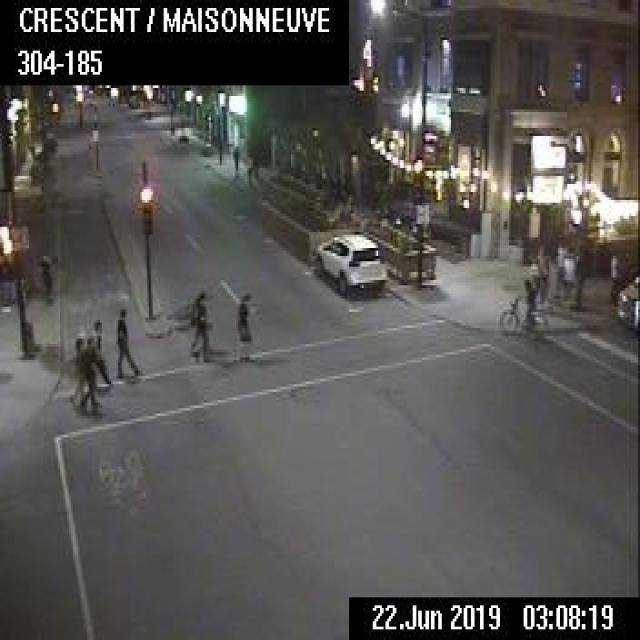cyclist: (496, 275, 553, 341)
pedestrian: (188, 288, 212, 363), (114, 307, 138, 377), (78, 334, 100, 408), (90, 317, 112, 385), (69, 334, 89, 408), (234, 288, 251, 360), (551, 236, 566, 298), (534, 243, 549, 301), (562, 245, 574, 303), (231, 141, 238, 179)
vehicle: (313, 229, 387, 299), (616, 273, 638, 332)
